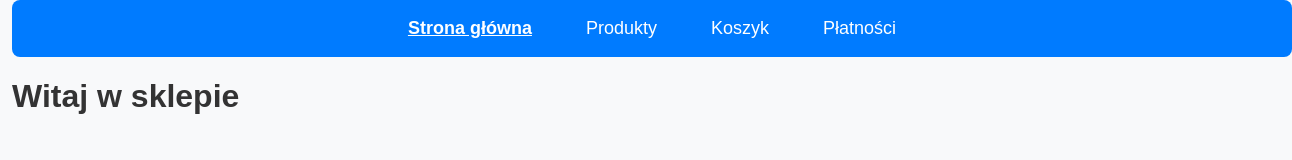
Test case: Navigation Bar Tests › Cart button should work and indicate empty cart or items
Click the link "Koszyk".
click(740, 28)  # box [711, 18, 769, 38]
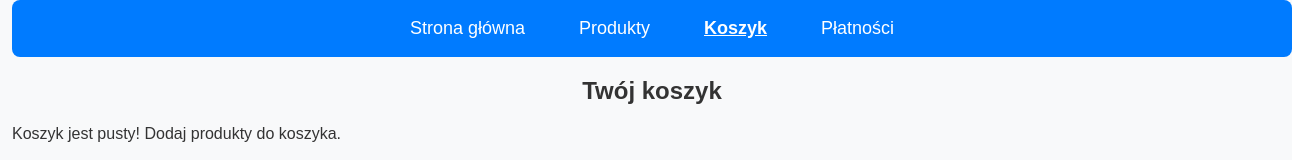
Check: the heading "Twój koszyk" is shown, box [582, 77, 722, 104]
Check: the text "Koszyk jest pusty! Dodaj produkty do koszyka." is shown, box [12, 125, 341, 142]
